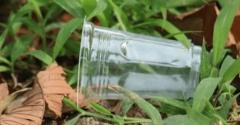plastic: (76, 16, 208, 102)
